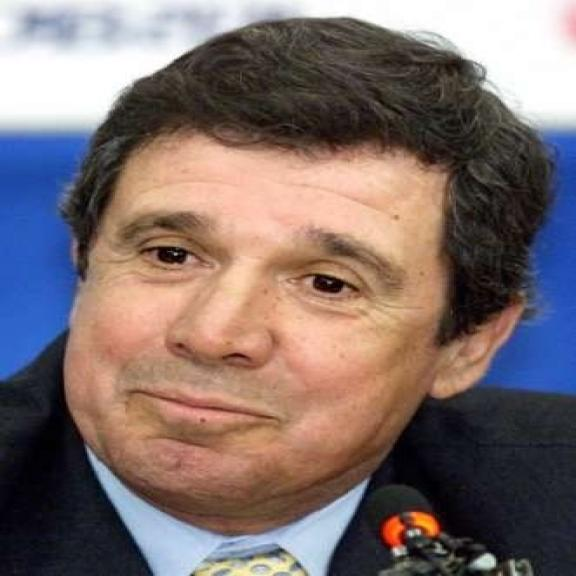face: (61, 15, 548, 514)
